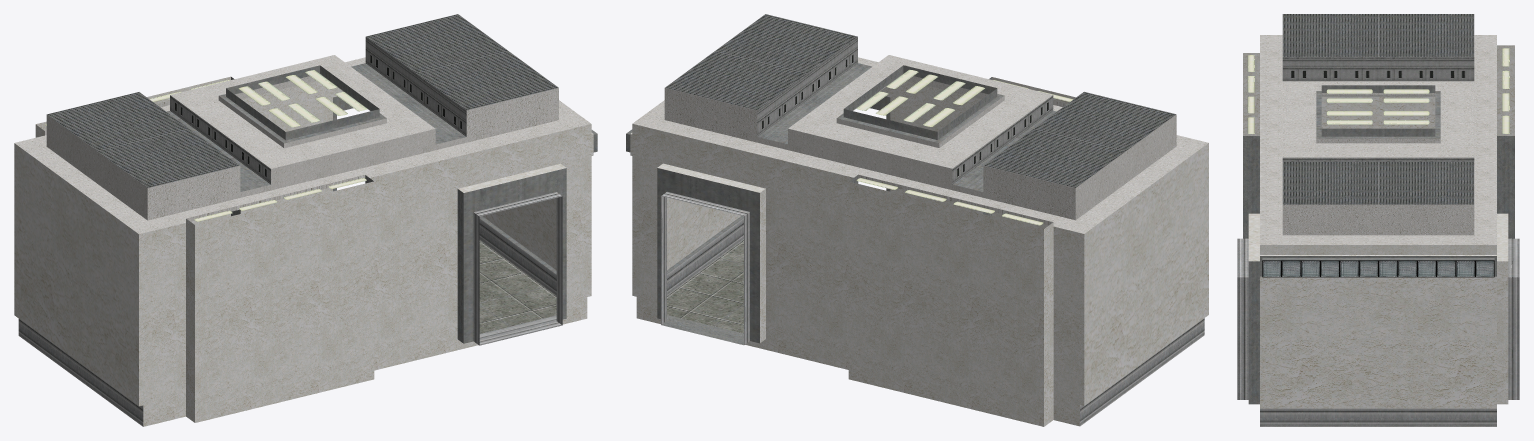
File: ply_corl_house_sm_s01_fp1_r3_room1_mesh.fbx
The picture shows the model from 3 angles, left to right: view 1: azimuth 30°, elevation 25°; view 2: azimuth 150°, elevation 25°; view 3: azimuth 270°, elevation 25°; orthographic projection. The views are drawn at different scales.
Parts seen in each view (by area): view 1: mesh_node; view 2: mesh_node; view 3: mesh_node.
Part boxes in pixels (x1,y1,x2,y2): mesh_node: (14,14,597,426); mesh_node: (626,14,1208,426); mesh_node: (1237,14,1519,426).
Bounding box in the file's own units: 11.18 × 5.31 × 6.25.
